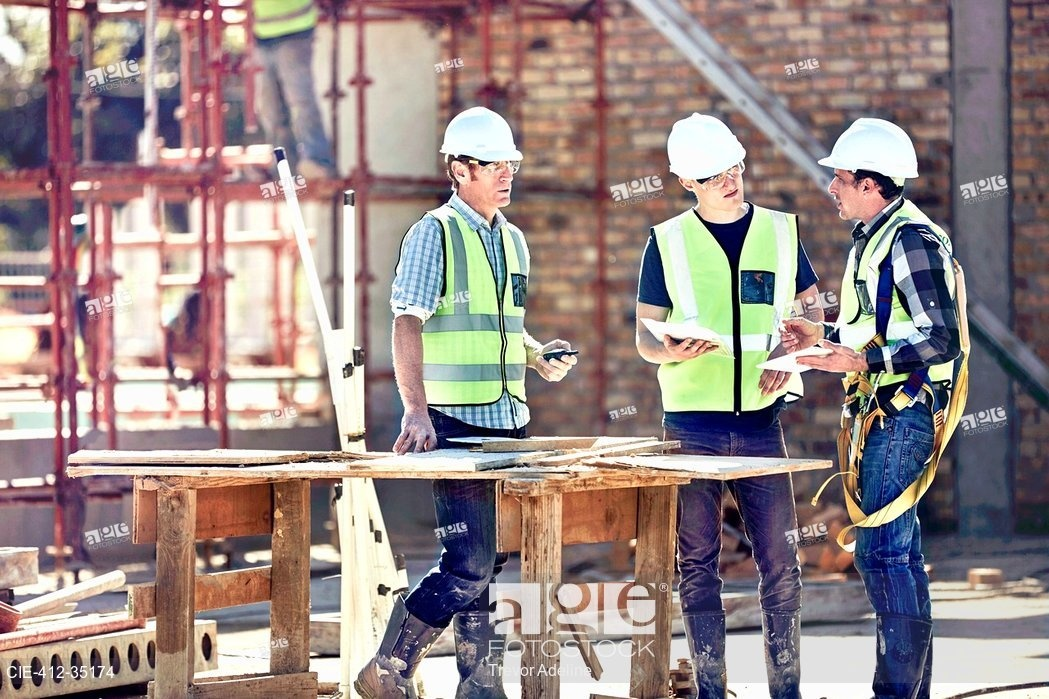white: (827, 115, 917, 220), (665, 113, 742, 218), (443, 107, 517, 209)
